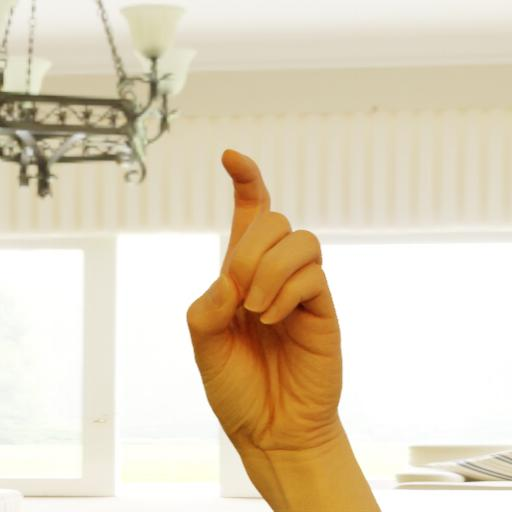X: (176, 135, 360, 471)
